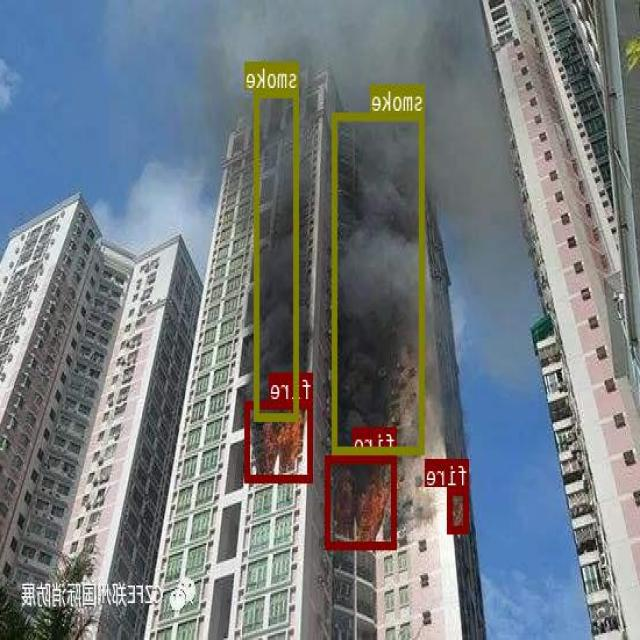fire: (326, 456, 398, 548), (246, 400, 313, 480), (448, 487, 469, 532)
smoke: (334, 111, 425, 452), (256, 88, 300, 419)
